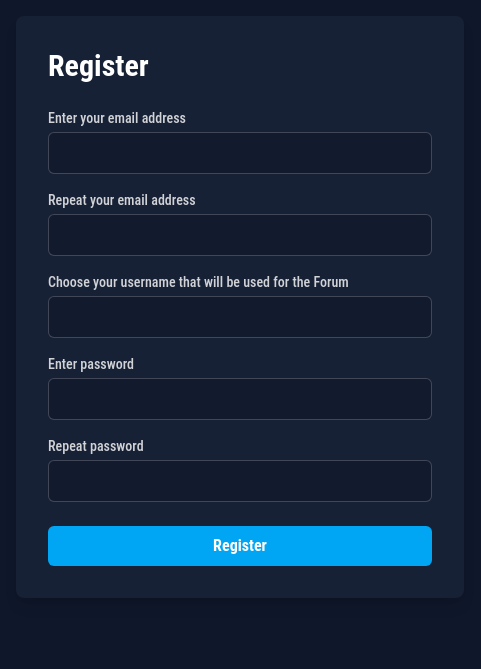
Test: Register page › shows an inline error and blocks submission when the password is too short
In the field labelled "Enter your email address": (240, 153) [48,132,432,174], type "yuki@example.com"
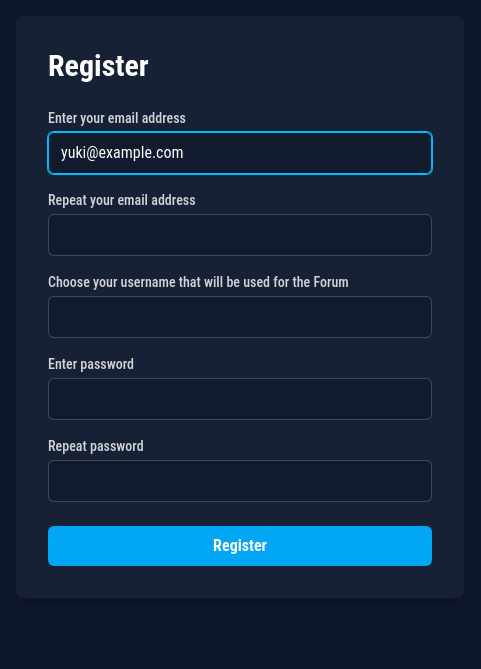
In the field labelled "Repeat your email address": (240, 235) [48,214,432,256], type "yuki@example.com"
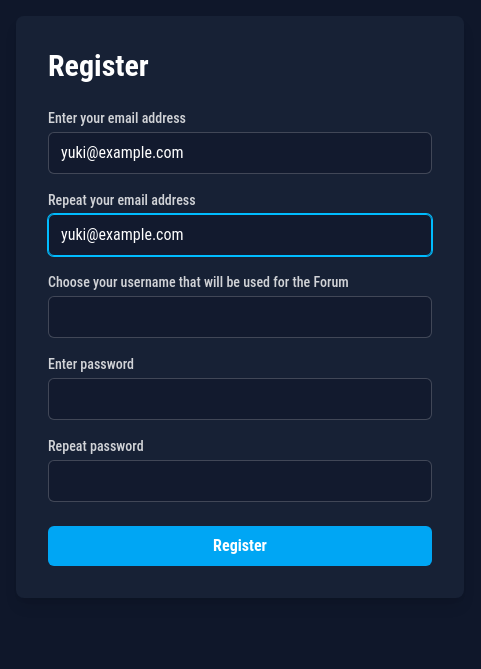
In the field labelled "Choose your username that will be used for the Forum": (240, 317) [48,296,432,338], type "yuki"
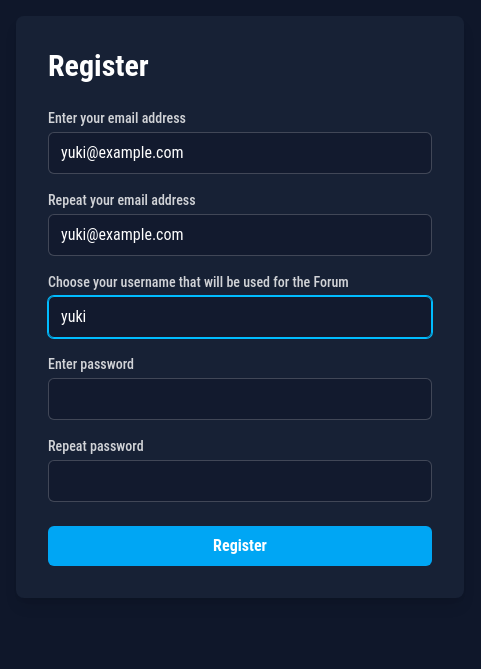
In the password field labelled "Enter password": (240, 399) [48,378,432,420], type "short"
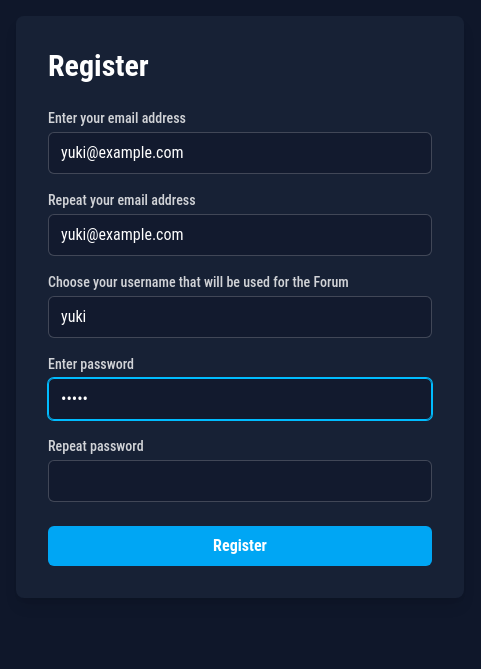
In the password field labelled "Repeat password": (240, 481) [48,460,432,502], type "short"
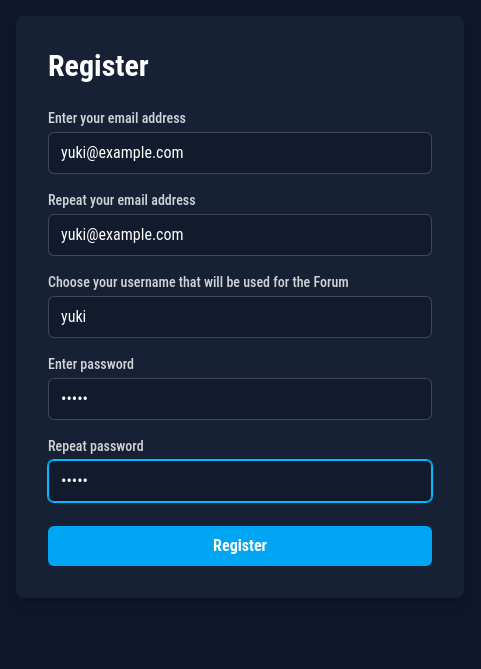
Click the button "Register": (240, 546) [48,526,432,566]
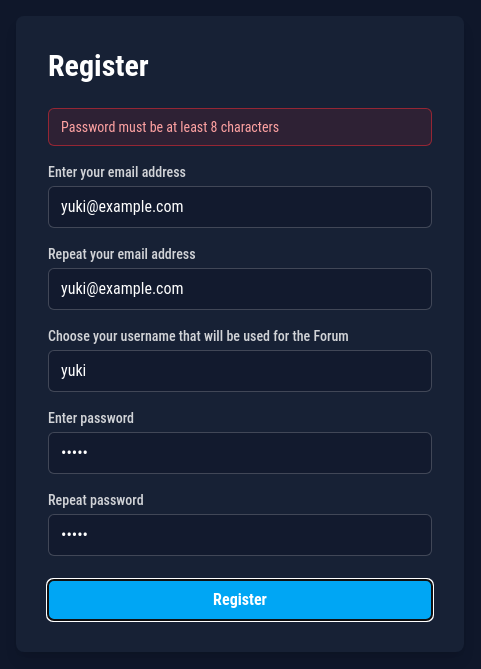
expect the text "Password must be at least 8 characters" is shown: met, box [48,108,432,146]
